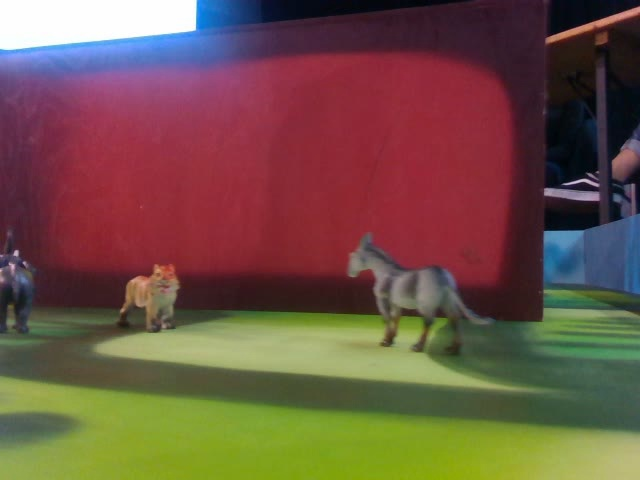toy: (342, 233, 502, 359), (118, 259, 192, 340)
